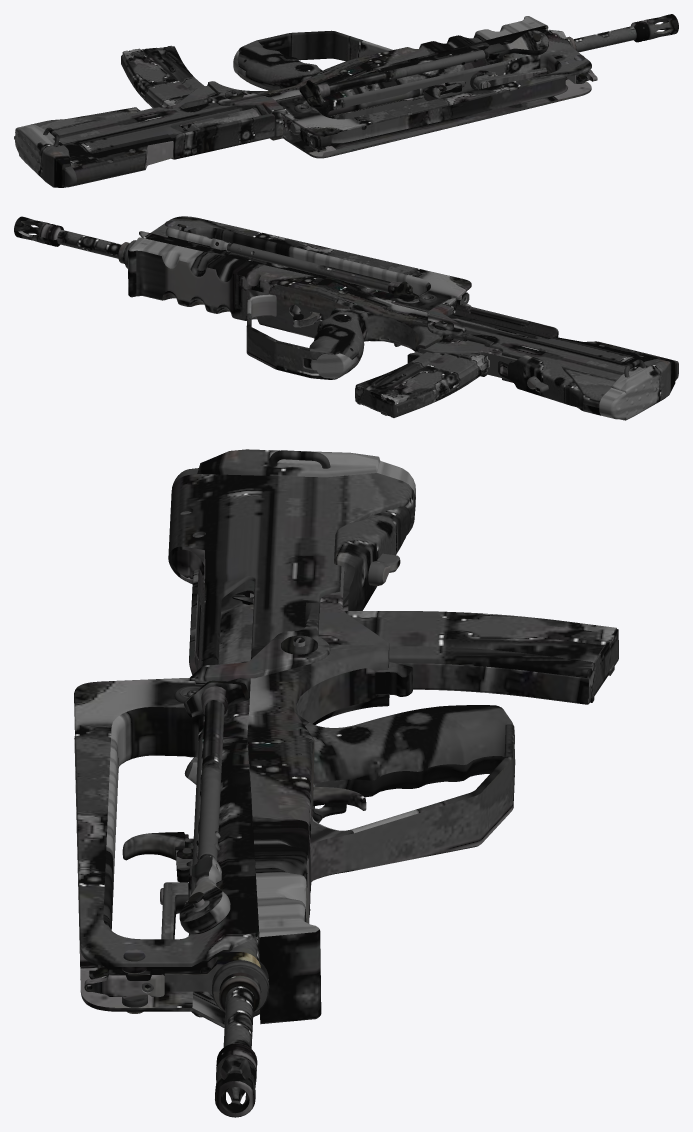
Rendered from w_famas.glb.
3 views of the same model, one above another, from view 1: azimuth 30°, elevation 25°; view 2: azimuth 150°, elevation 25°; view 3: azimuth 270°, elevation 25° (orthographic). The views are drawn at different scales.
Parts seen in each view (by area): view 1: w_famas; view 2: w_famas; view 3: w_famas.
Part boxes in pixels (<box>): w_famas: <box>14,14,678,187</box>; w_famas: <box>14,216,678,420</box>; w_famas: <box>74,449,618,1117</box>.
Bounding box in the file's own units: 1.1 × 0.1039 × 0.4164.
Materials: 1 (1 with a texture image).
